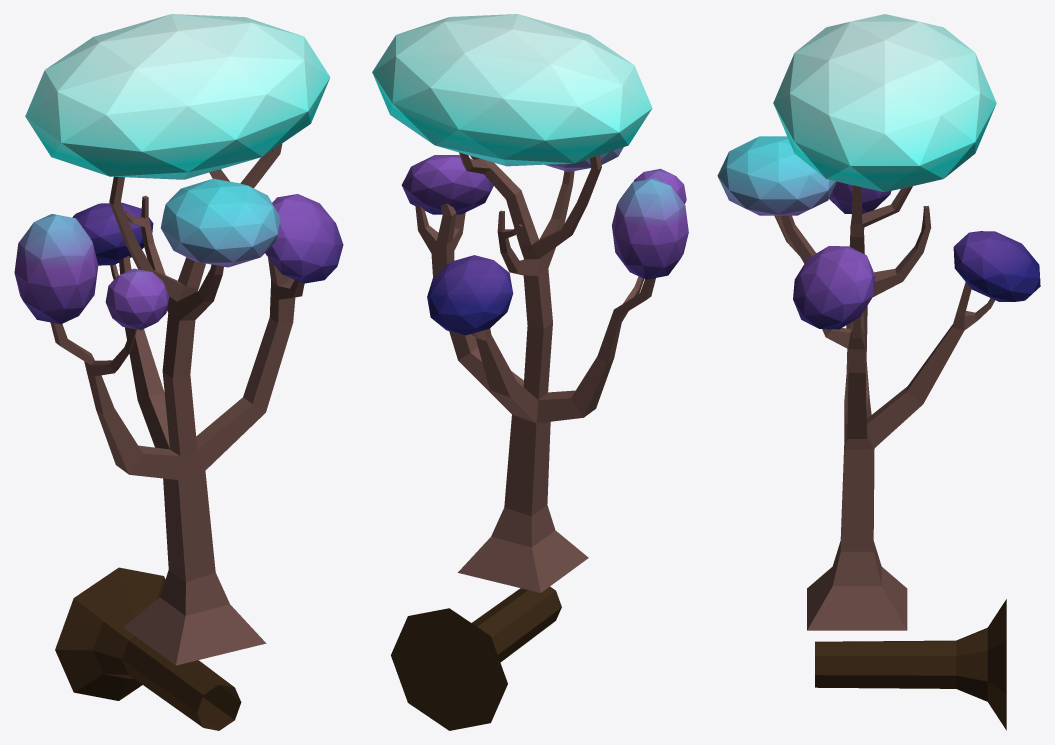
The model's file is Tree5.glb.
The picture shows the model from 3 angles, left to right: view 1: azimuth 30°, elevation 25°; view 2: azimuth 150°, elevation 25°; view 3: azimuth 270°, elevation 25°; orthographic projection. The views are drawn at different scales.
Parts seen in each view (by area): view 1: sky tree, dark pine_Material.018_0; view 2: sky tree, dark pine_Material.018_0; view 3: sky tree, dark pine_Material.018_0.
Boxes of the visible parts, x1,y1,x2,y2 form: sky tree: (14, 14, 343, 665); dark pine_Material.018_0: (55, 567, 241, 730); sky tree: (372, 14, 688, 592); dark pine_Material.018_0: (391, 586, 561, 730); sky tree: (717, 14, 1040, 630); dark pine_Material.018_0: (815, 599, 1006, 730).
Bounding box in the file's own units: 2.91 × 6.49 × 2.77.
Materials: 3 (1 with a texture image).
